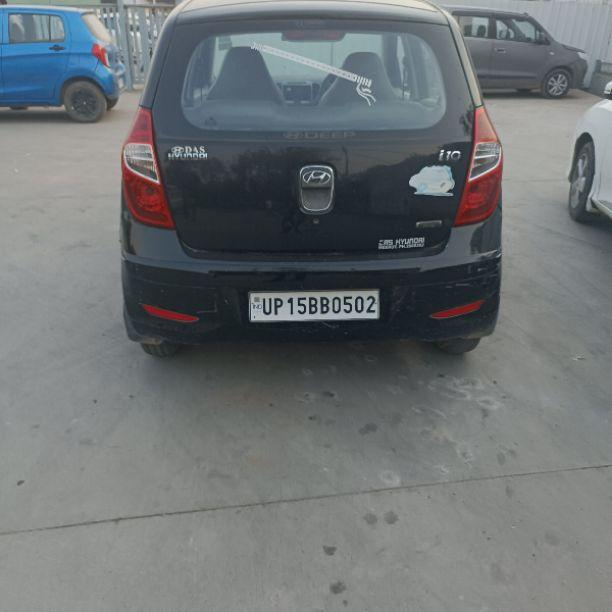license_plate: (246, 287, 381, 323)
